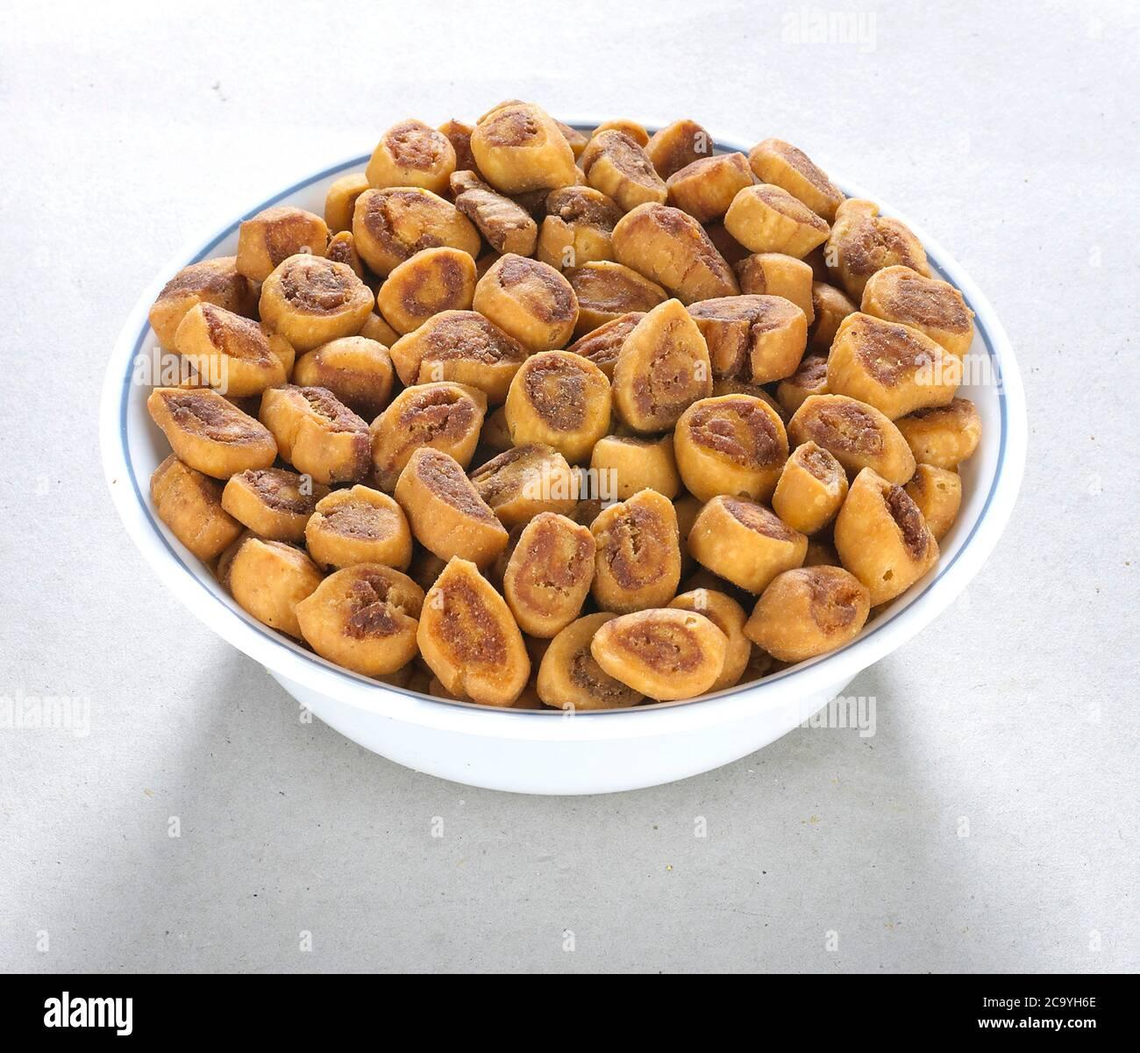bhakarwadi: (138, 110, 979, 704)
